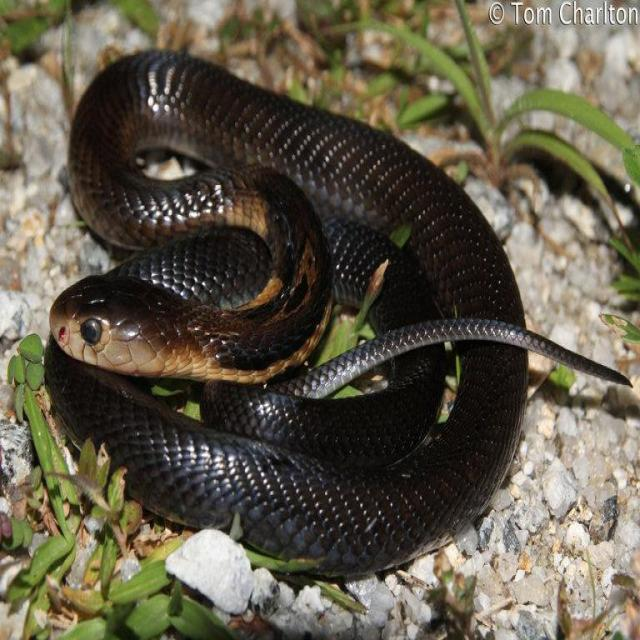Snake: (43, 45, 632, 579)
